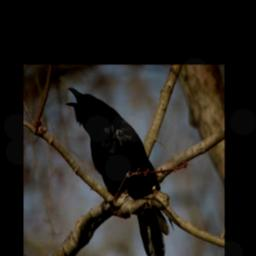Crow: (63, 83, 170, 256)
